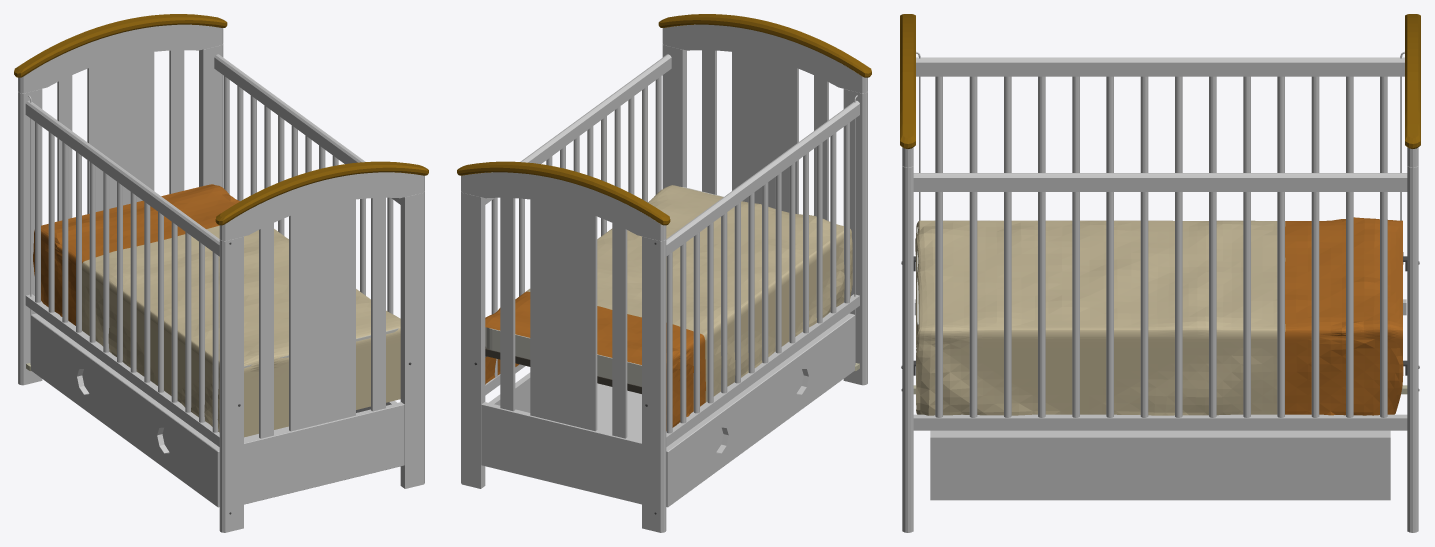
The model's file is crib.obj.
The picture shows the model from 3 angles, left to right: view 1: azimuth 30°, elevation 25°; view 2: azimuth 150°, elevation 25°; view 3: azimuth 270°, elevation 25°; orthographic projection. The views are drawn at different scales.
Size of the model in its own units: 0.728 by 1.11 by 1.24.
